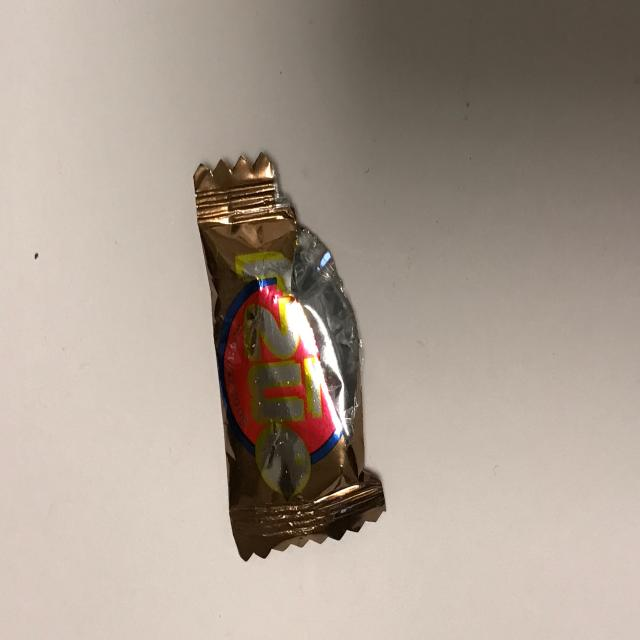trash: (193, 151, 386, 561)
